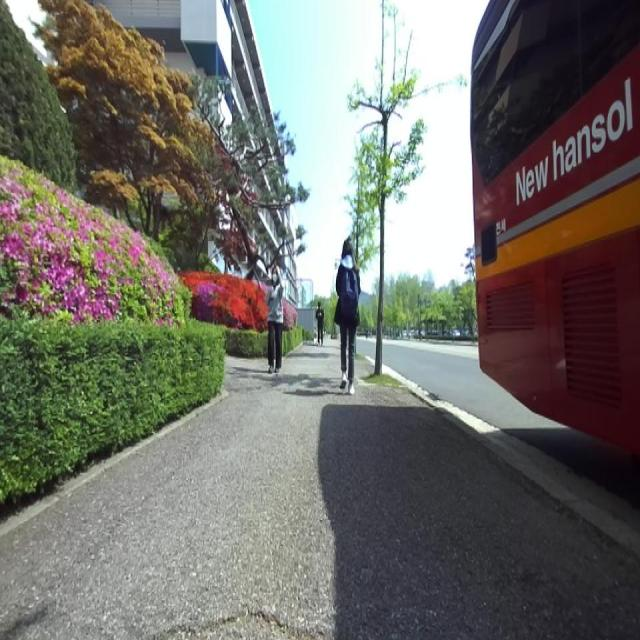sidewalk: (0, 339, 640, 639)
